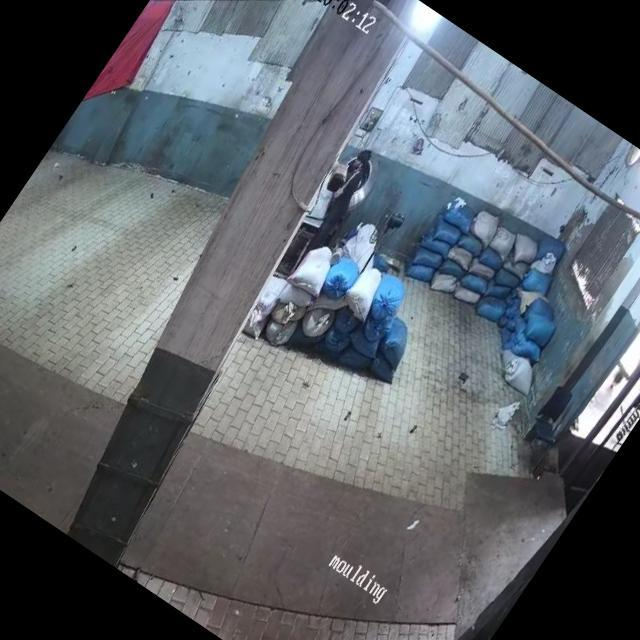person: (302, 140, 385, 248)
